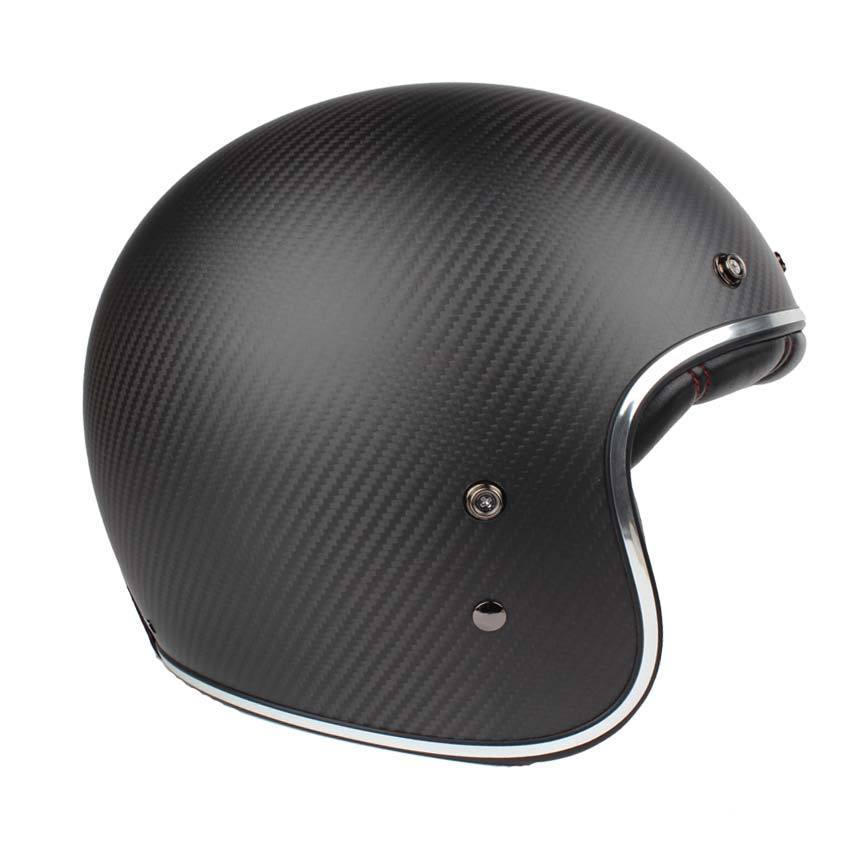helmet: (77, 67, 814, 775)
